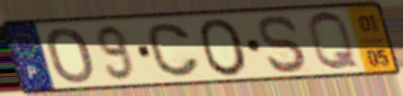9: (93, 23, 138, 83)
C: (145, 21, 203, 79)
O: (196, 16, 252, 78), (43, 25, 96, 86)
Q: (305, 10, 363, 74)
S: (257, 14, 311, 75)
